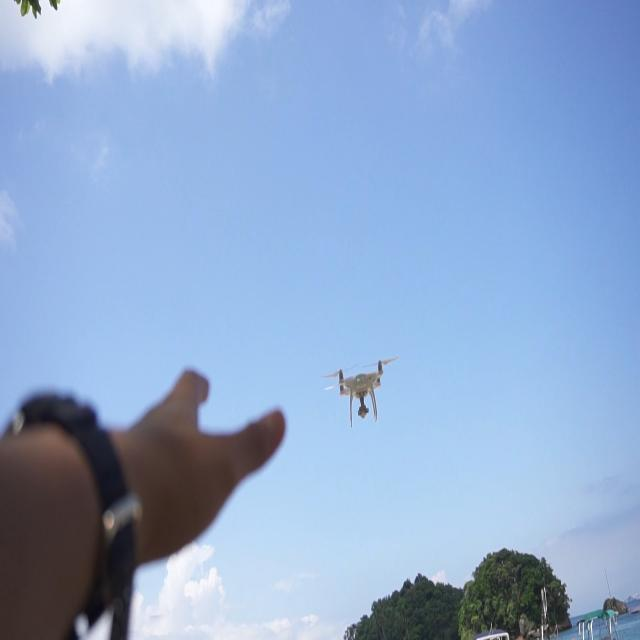Drone: (330, 363, 398, 449)
